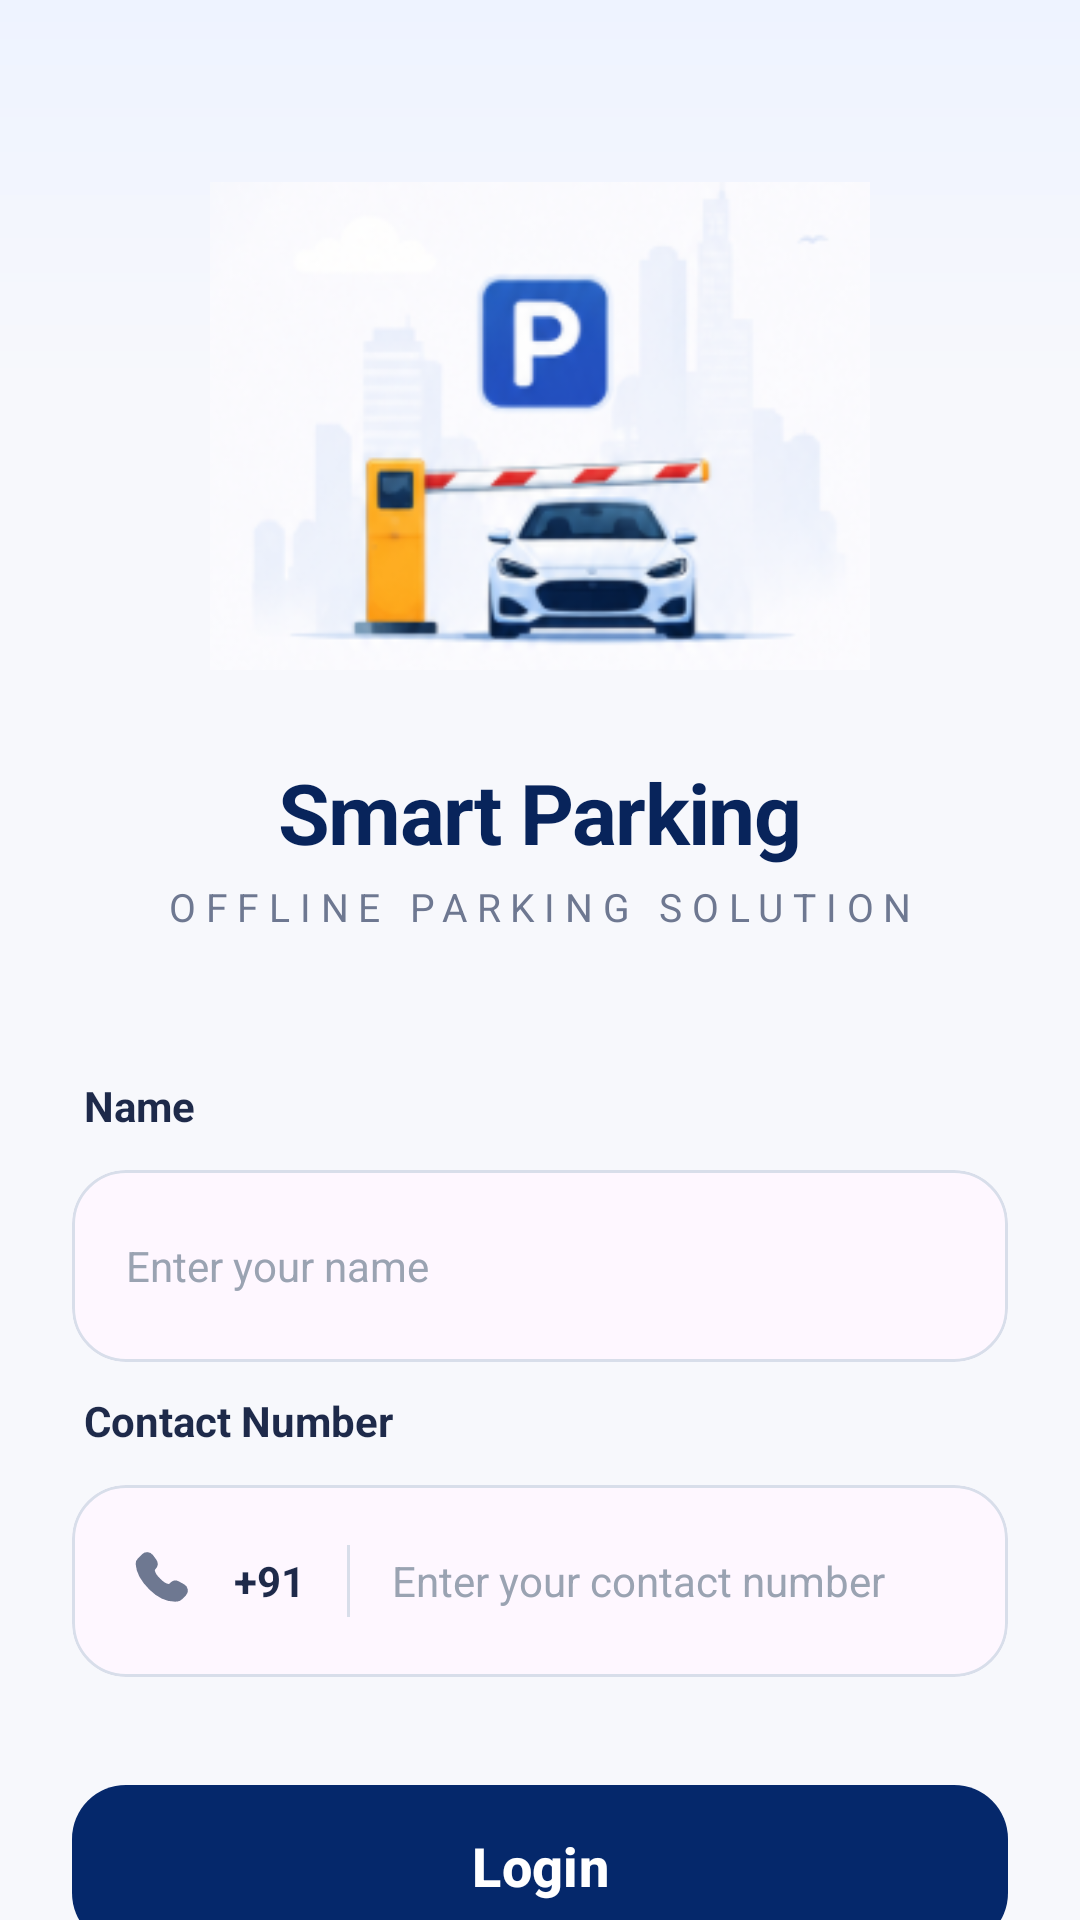

Screen size 1080w x 1920h. Icon name, then its center in pixels as (x,y):
phone: (161,1577)
